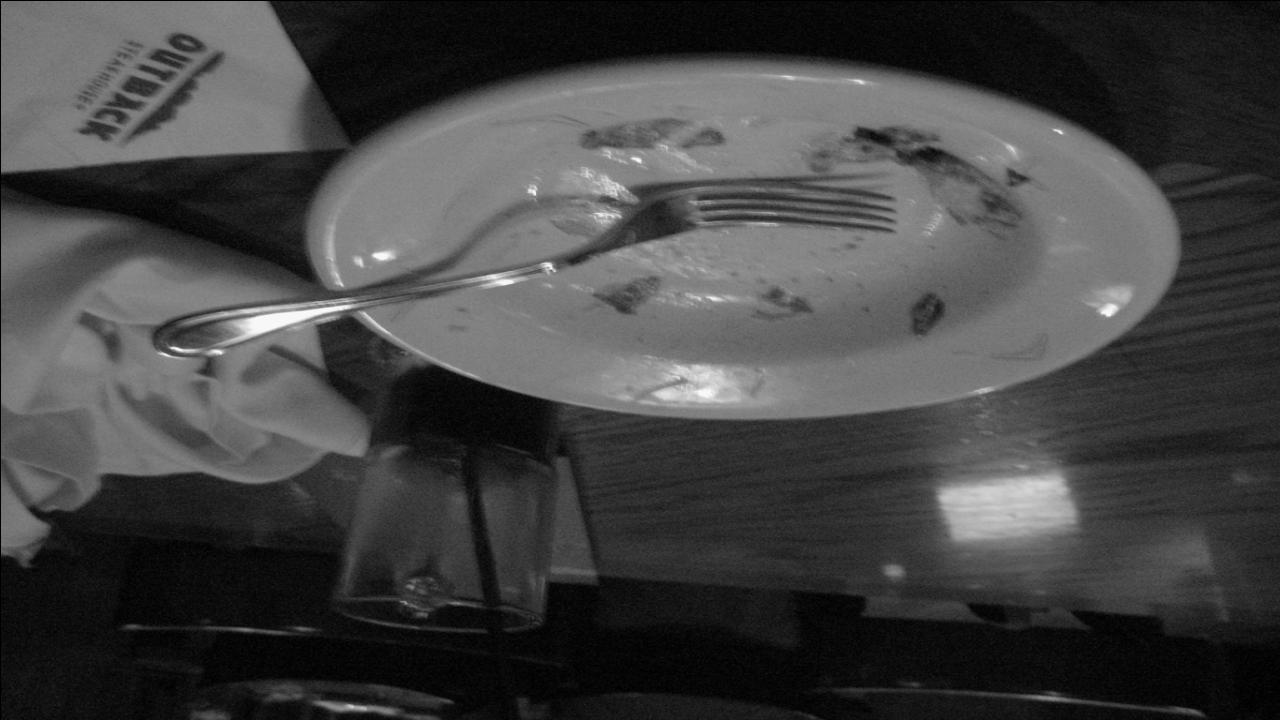fork: (151, 178, 901, 358)
